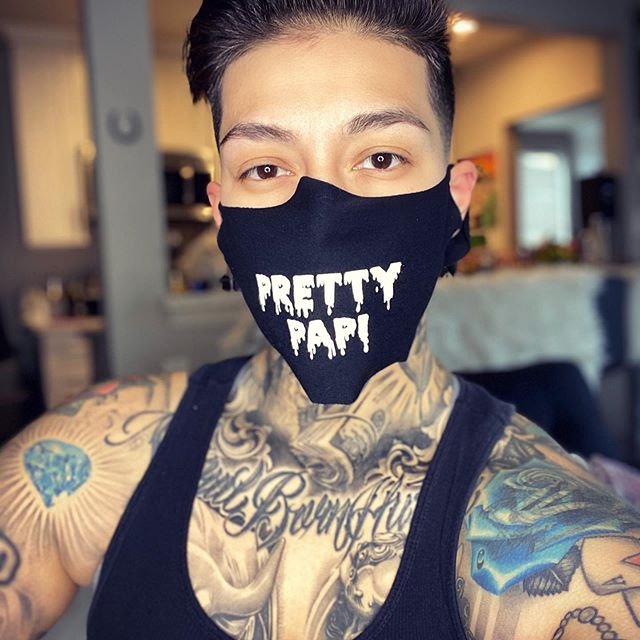homemade: (197, 183, 516, 403)
